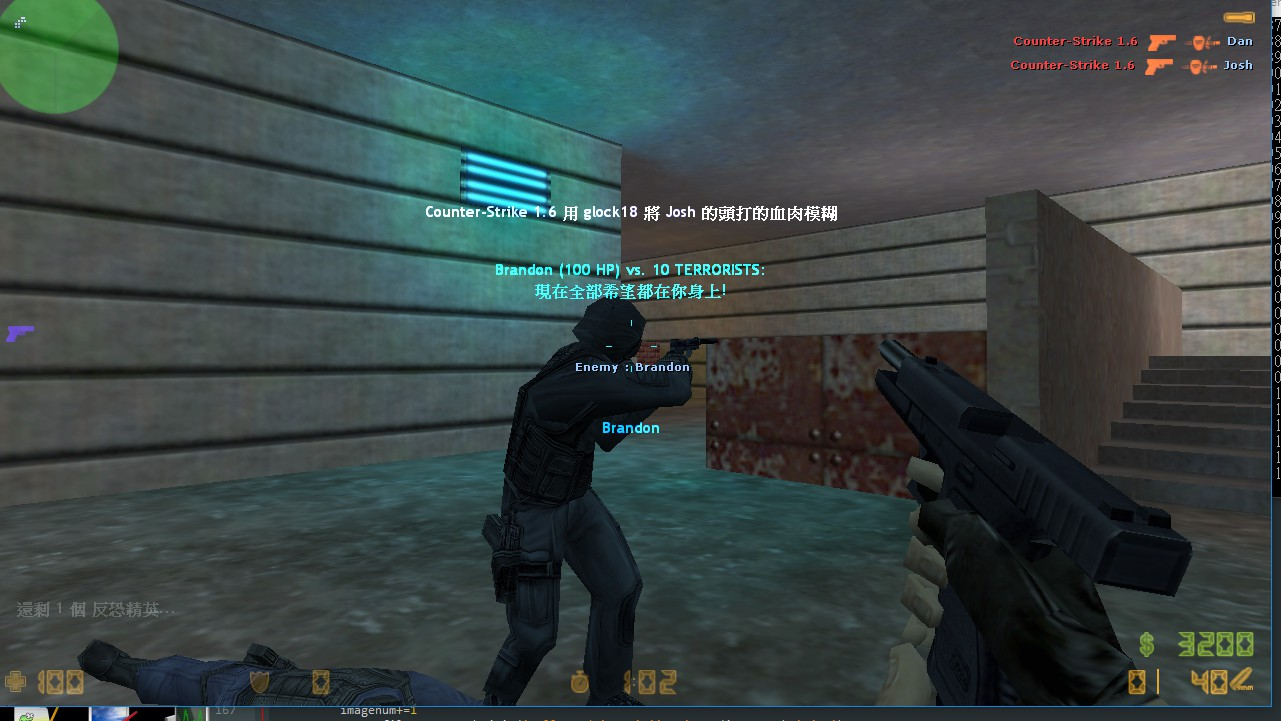person: (474, 300, 734, 706)
